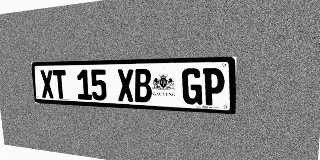1: (76, 69, 92, 100)
5: (91, 69, 107, 101)
B: (134, 69, 152, 103)
G: (182, 68, 202, 105)
P: (203, 68, 225, 106)
T: (52, 70, 67, 99)
X: (117, 69, 134, 102), (40, 70, 54, 98)
